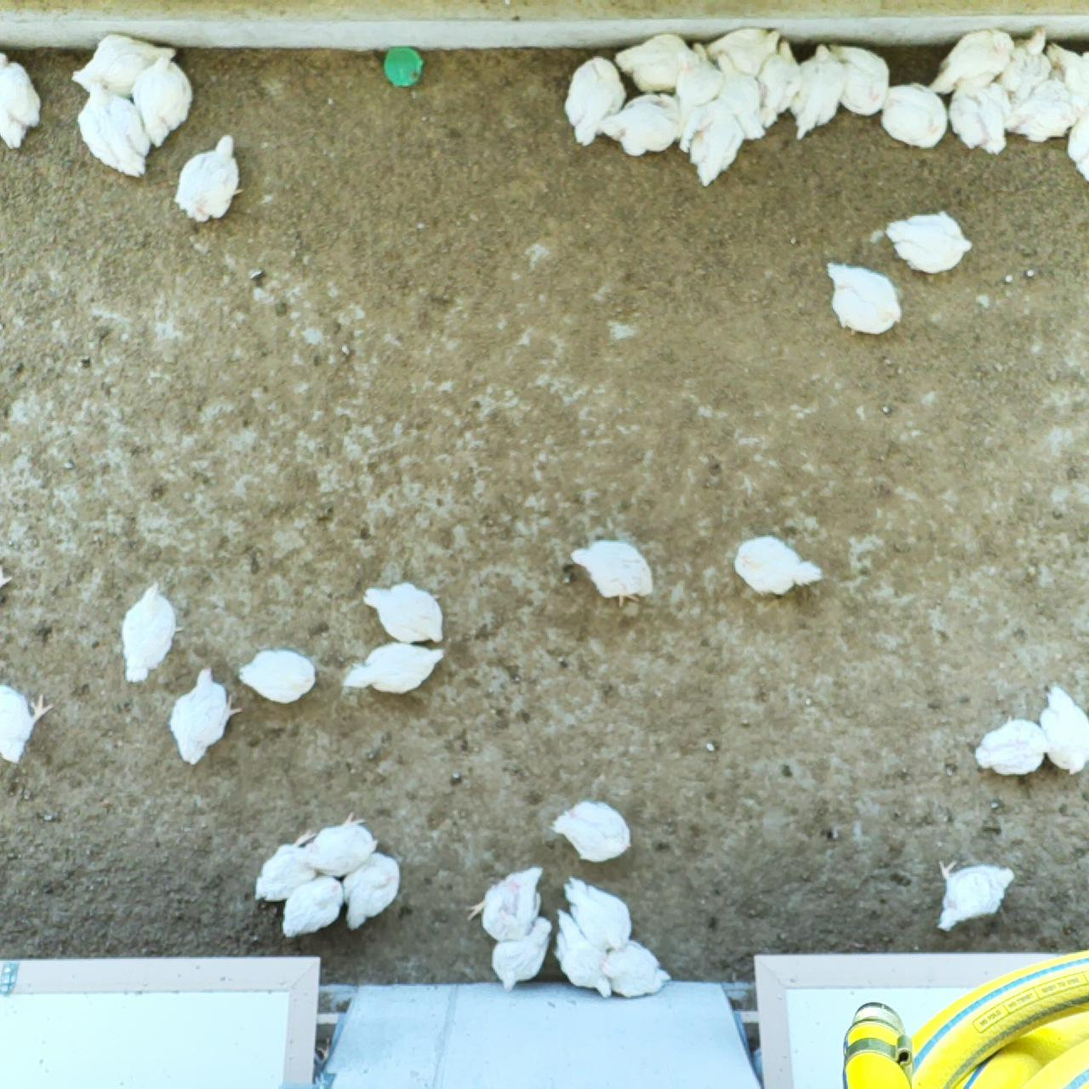chicken: (165, 660, 244, 770), (75, 78, 154, 181), (68, 29, 180, 101), (117, 576, 188, 687), (543, 903, 616, 1006), (172, 131, 248, 226), (128, 51, 197, 153), (673, 98, 748, 191), (928, 856, 1017, 934), (556, 868, 637, 952), (462, 863, 547, 943), (926, 24, 1018, 97), (824, 259, 906, 339), (562, 53, 629, 150), (731, 530, 825, 599), (360, 576, 451, 647), (569, 536, 655, 611), (882, 207, 978, 274), (338, 639, 448, 697), (548, 794, 637, 864), (292, 809, 383, 877), (786, 40, 846, 143), (597, 93, 683, 162), (249, 827, 322, 907), (489, 909, 553, 997), (971, 710, 1049, 781), (1000, 74, 1080, 142), (879, 77, 951, 152), (712, 47, 769, 141), (342, 847, 403, 934), (947, 71, 1008, 157), (613, 31, 694, 95), (0, 682, 58, 771), (1038, 682, 1089, 780), (237, 648, 321, 706), (827, 41, 891, 117), (992, 24, 1055, 101), (600, 937, 673, 1003), (280, 869, 345, 943), (0, 48, 44, 152), (753, 36, 802, 127), (705, 26, 782, 80), (675, 40, 722, 117), (1046, 38, 1089, 91)
